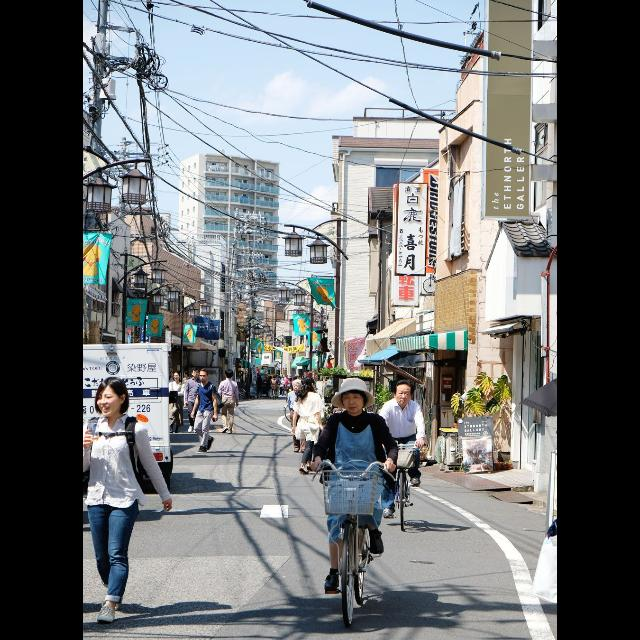head: (97, 377, 127, 418), (340, 384, 366, 414), (393, 381, 412, 407), (304, 378, 316, 390), (294, 379, 304, 393), (200, 369, 208, 383), (224, 369, 233, 379), (173, 372, 181, 382), (192, 368, 200, 378), (170, 372, 176, 378), (184, 372, 188, 378), (258, 376, 262, 380), (273, 377, 277, 381), (270, 376, 272, 379), (280, 378, 282, 380)
person: (82, 376, 174, 624), (310, 376, 400, 592), (376, 379, 428, 519), (291, 376, 327, 476), (190, 368, 220, 454), (286, 378, 312, 454), (218, 369, 240, 435), (185, 366, 205, 434), (167, 371, 186, 434), (181, 372, 195, 408), (270, 376, 282, 400), (256, 374, 266, 400), (168, 371, 176, 399), (266, 376, 274, 398), (278, 377, 286, 398)
